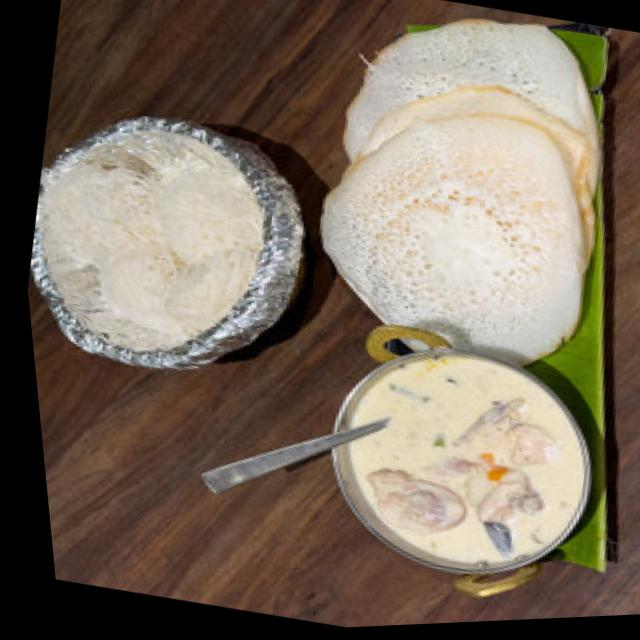AAPAM: (320, 17, 598, 362)
CURRY: (331, 348, 588, 574)
